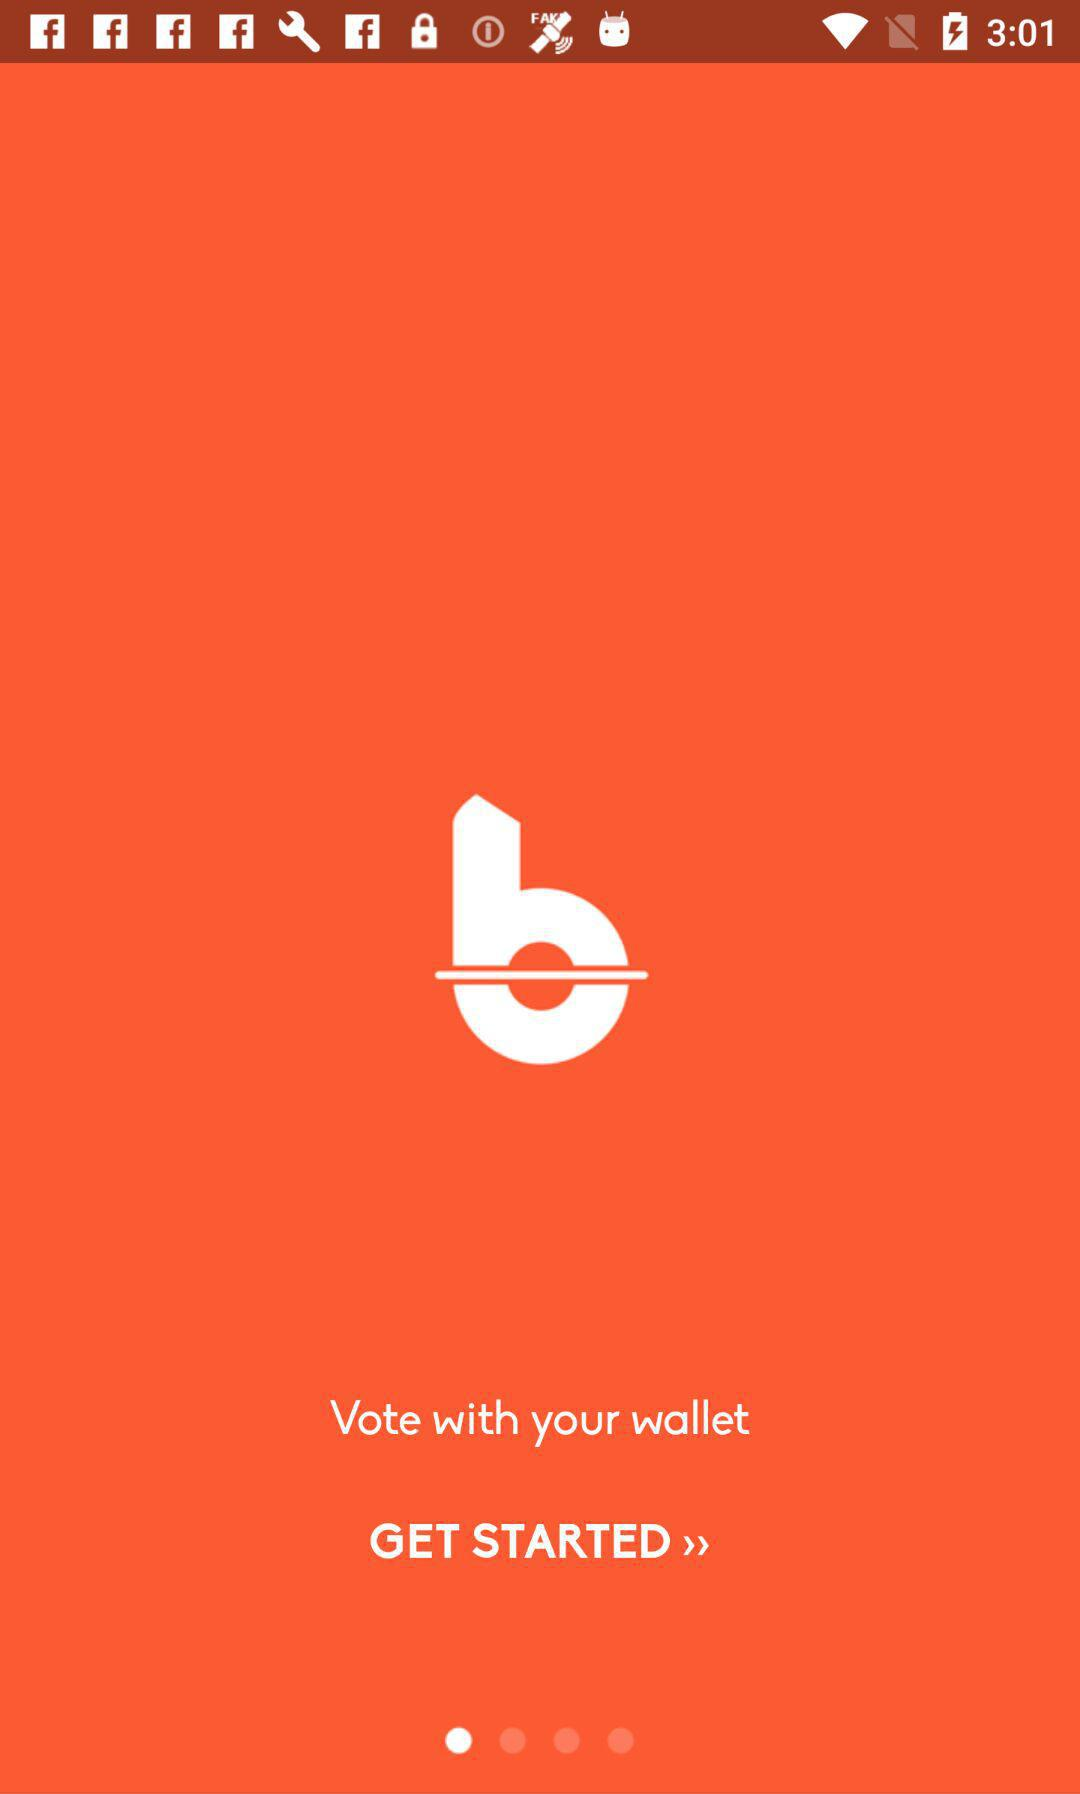Image: (436, 792, 650, 1066)
PageIndicator: (445, 1726, 635, 1756)
Text: (329, 1397, 751, 1451), (369, 1522, 711, 1559)
UpperTaskBar: (1, 1, 1080, 64)
